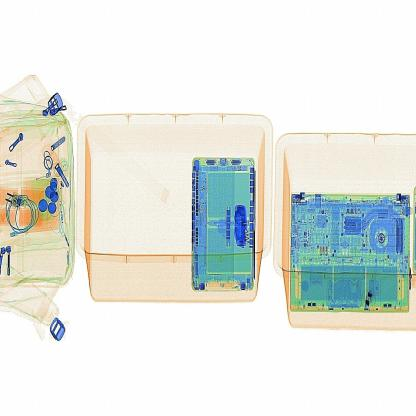scissors: (223, 196, 253, 264)
